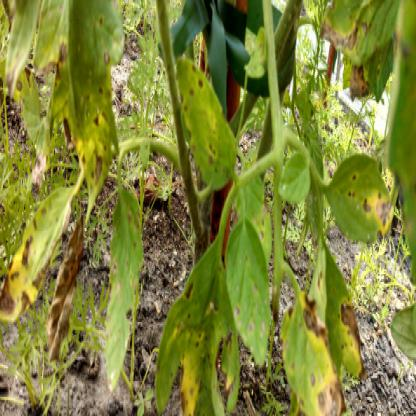Tomato Septoria leaf spot: (59, 10, 124, 215), (1, 183, 79, 319), (178, 57, 235, 199), (103, 188, 142, 389), (222, 218, 274, 367), (282, 288, 343, 414), (328, 151, 397, 260), (314, 247, 370, 378)
